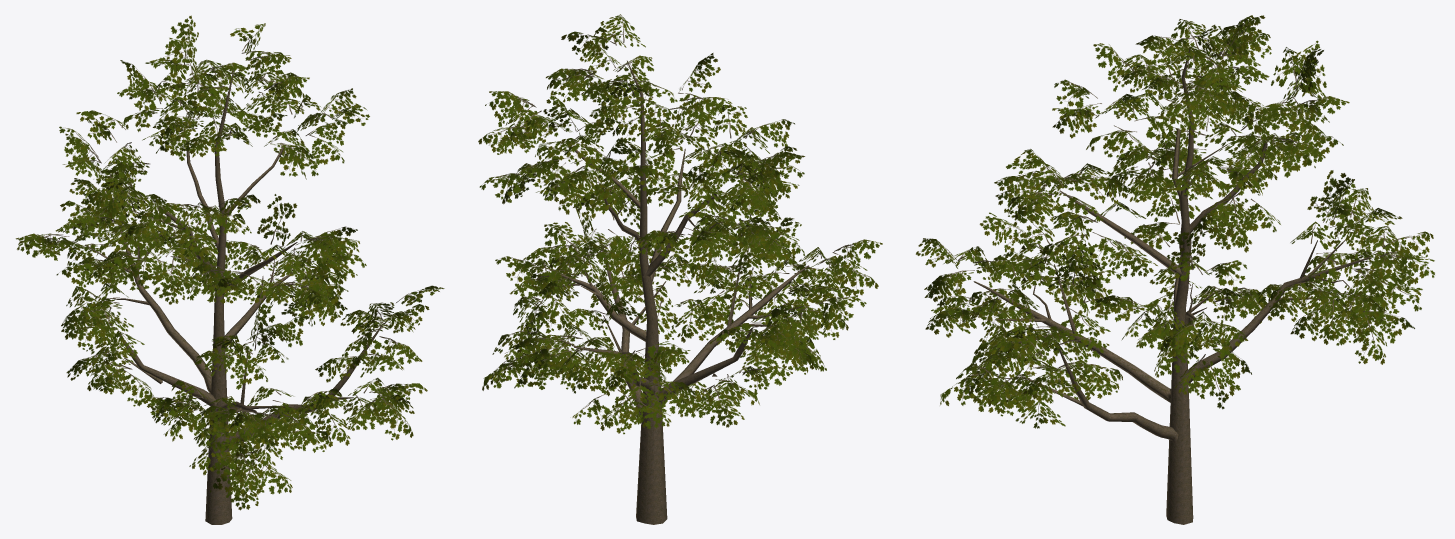
The model's file is tree_3.glb.
3 views of the same model, side by side, from view 1: azimuth 30°, elevation 25°; view 2: azimuth 150°, elevation 25°; view 3: azimuth 270°, elevation 25° (orthographic). The views are drawn at different scales.
Parts seen in each view (by area): view 1: tree_3; view 2: tree_3; view 3: tree_3.
Boxes of the visible parts, bbox=[...] form: tree_3: bbox=[15, 15, 444, 524]; tree_3: bbox=[478, 14, 882, 524]; tree_3: bbox=[916, 15, 1434, 524].
Bounding box in the file's own units: 12.61 × 18.33 × 17.17.
2 materials, 2 textured.
